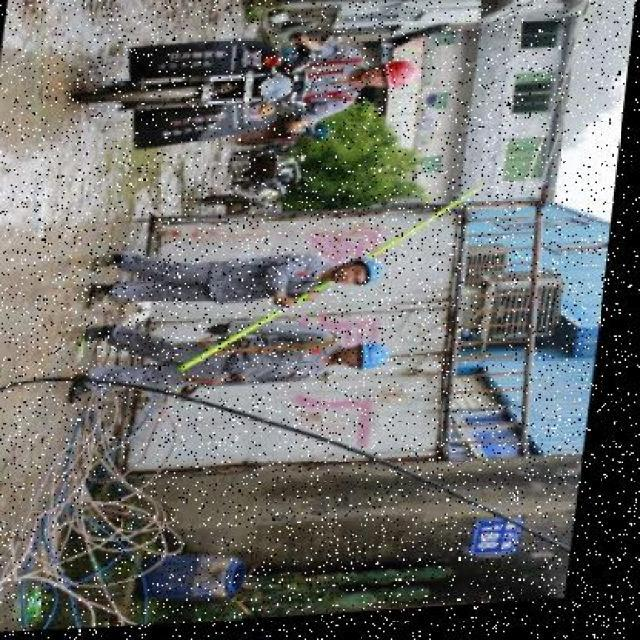helmet: (366, 57, 422, 101), (349, 343, 400, 381), (342, 260, 393, 298)
